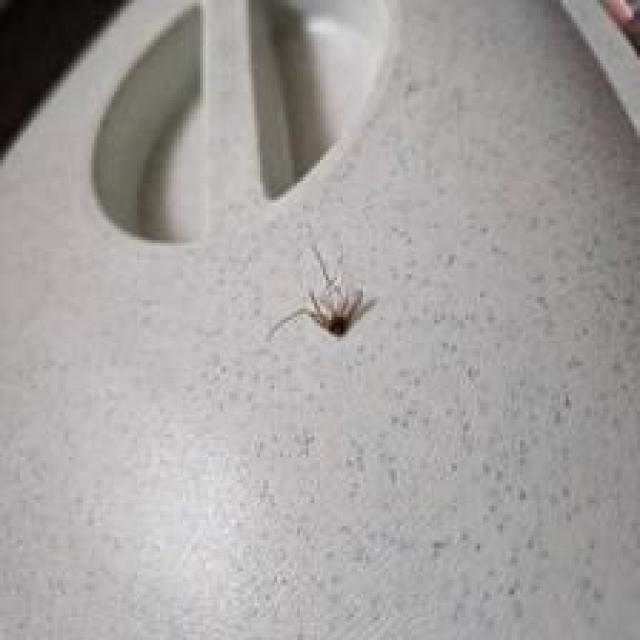Culex: (266, 242, 377, 344)
